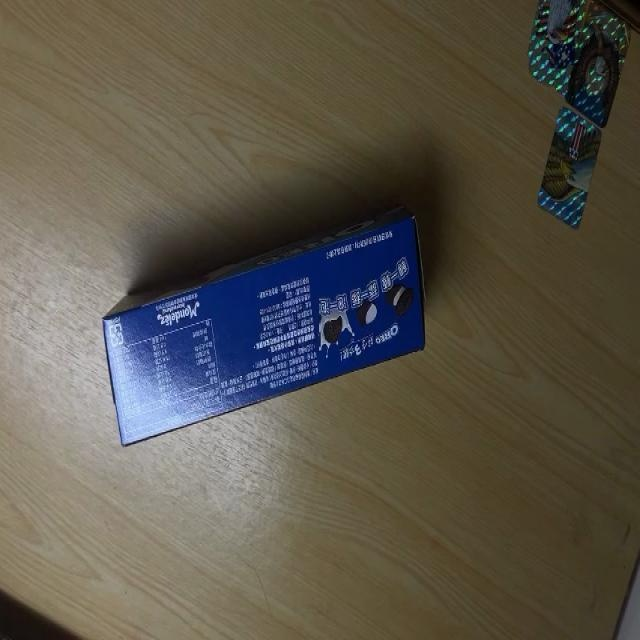Oreo: (100, 210, 424, 446)
